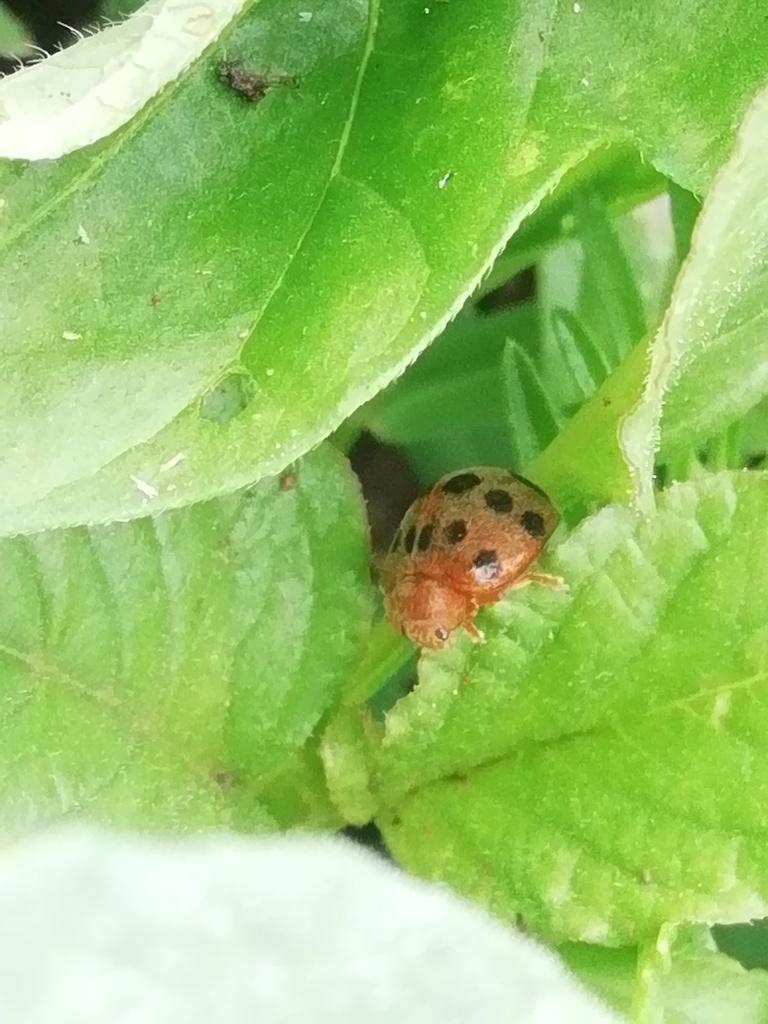ladybug: (374, 464, 571, 656)
